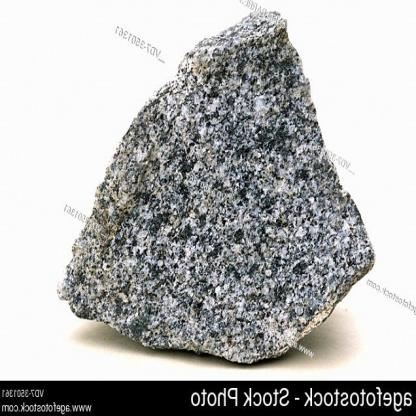Igneous_Diorite: (115, 72, 281, 342)
